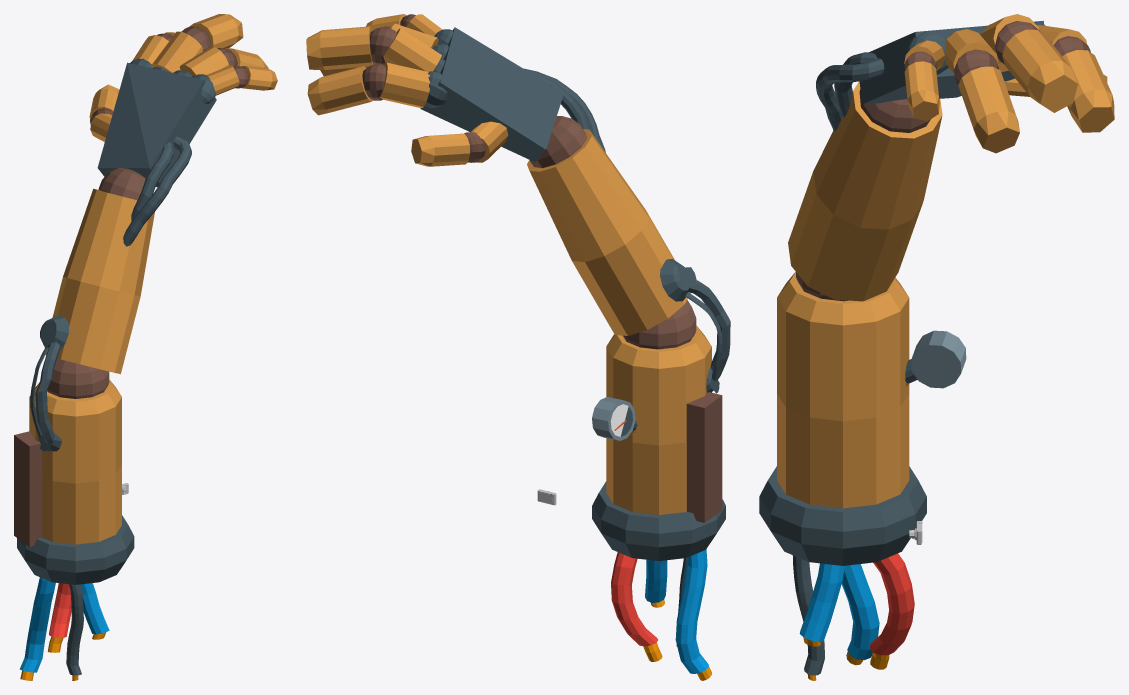
The model's file is arm.obj.
3 views of the same model, side by side, from view 1: azimuth 30°, elevation 25°; view 2: azimuth 150°, elevation 25°; view 3: azimuth 270°, elevation 25° (orthographic). The views are drawn at different scales.
Parts seen in each view (by area): view 1: mesh1635740804.001; view 2: mesh1635740804.001; view 3: mesh1635740804.001.
Boxes of the visible parts, x1=… form: mesh1635740804.001: x1=14, y1=14, x2=277, y2=680; mesh1635740804.001: x1=306, y1=14, x2=730, y2=680; mesh1635740804.001: x1=759, y1=14, x2=1114, y2=680.
Size of the model in its own units: 1.12 by 2.03 by 0.8207.
